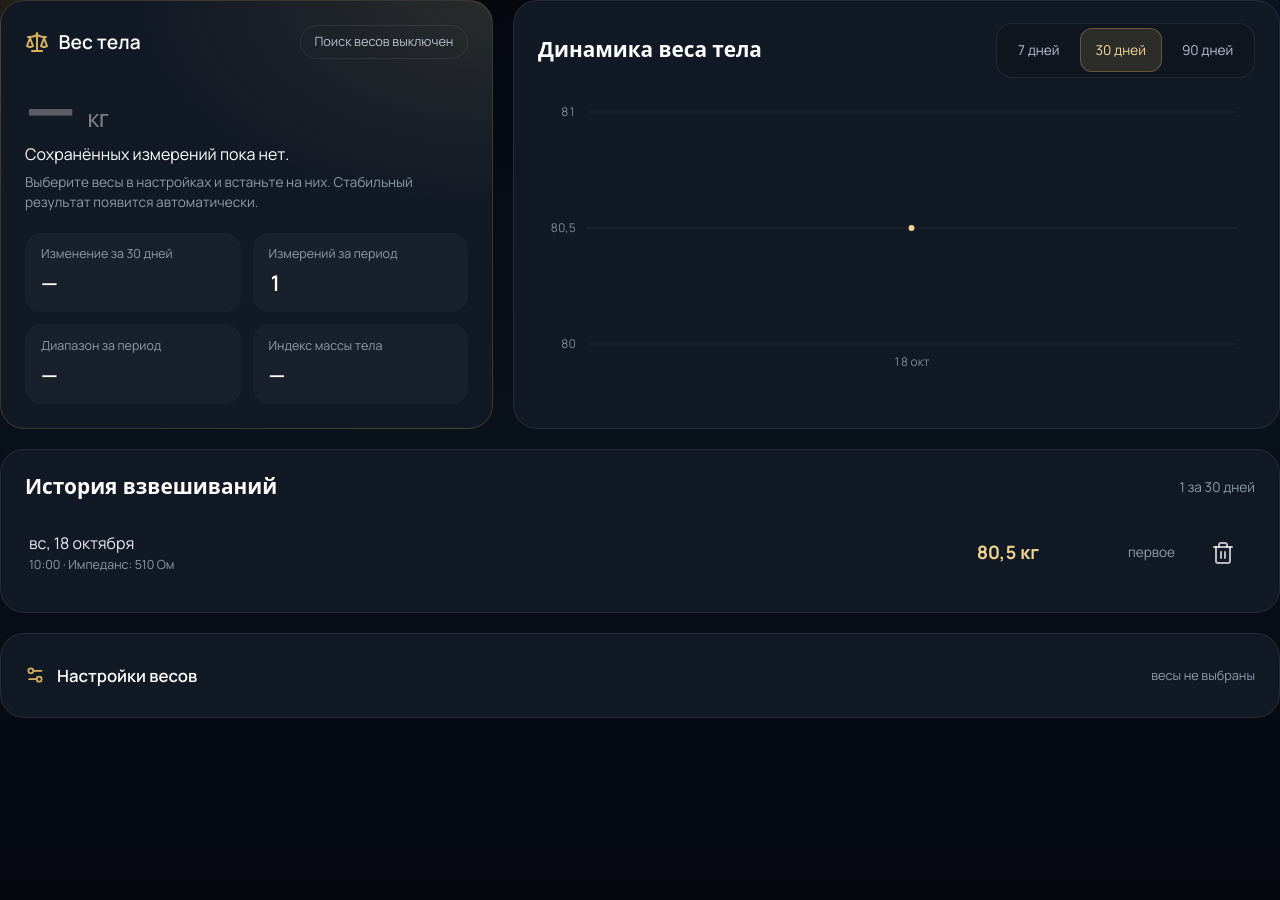
BodyWeightPanel shared scales › blocks duplicate deletion/close while pending and retains error/retry/cancel
The image size is (1280, 900).
Click the button named "Удалить 80,5 кг". click: [1223, 553]
box: left=1191, top=521, right=1255, bottom=585
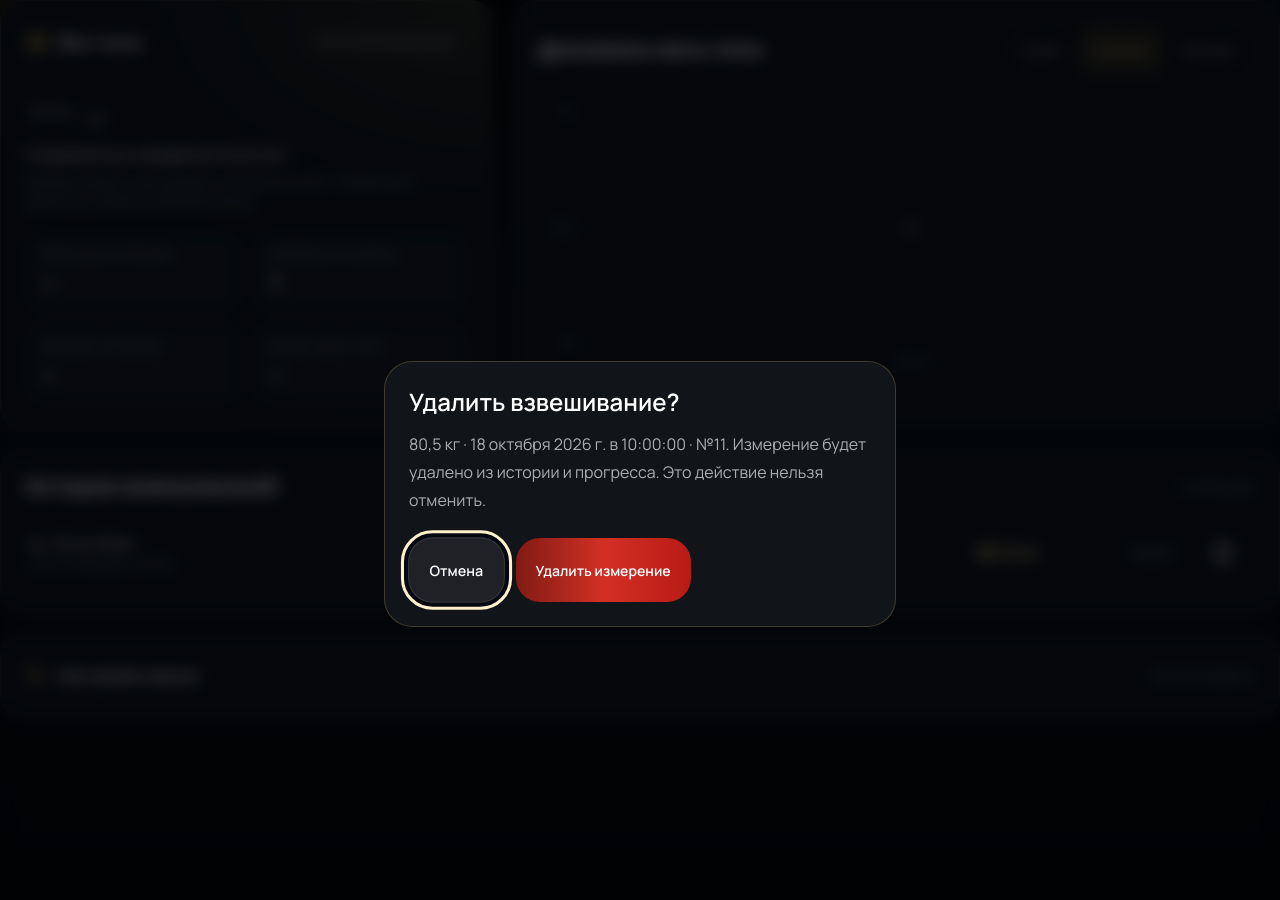
Click the button "Удалить измерение". click: [603, 570]
box: left=516, top=538, right=691, bottom=602
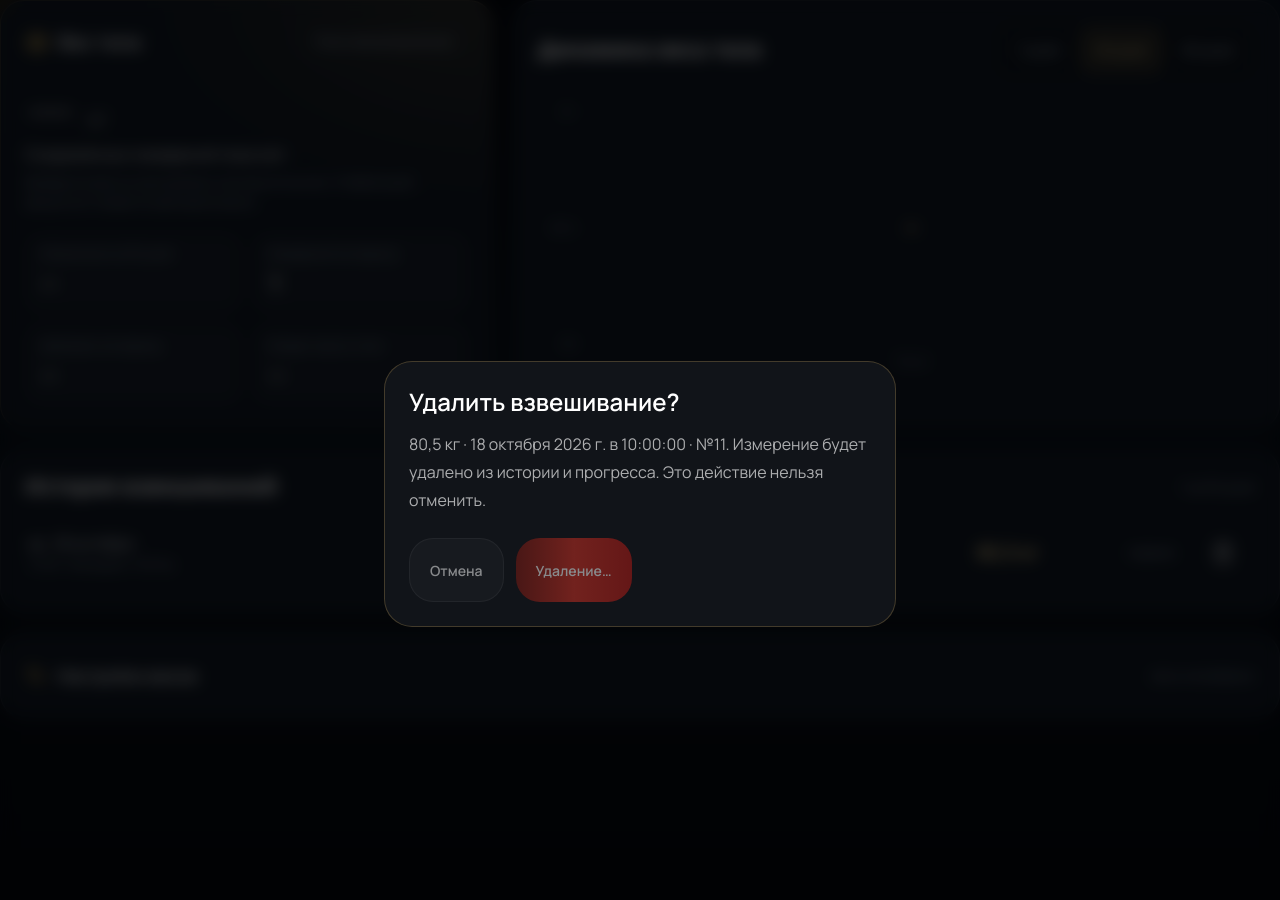
Expected: the button "Удаление…" is disabled, left=516, top=538, right=632, bottom=602
Expected: the button "Отмена" is disabled, left=409, top=538, right=504, bottom=602
Press Escape in the dialog, box left=384, top=361, right=896, bottom=627
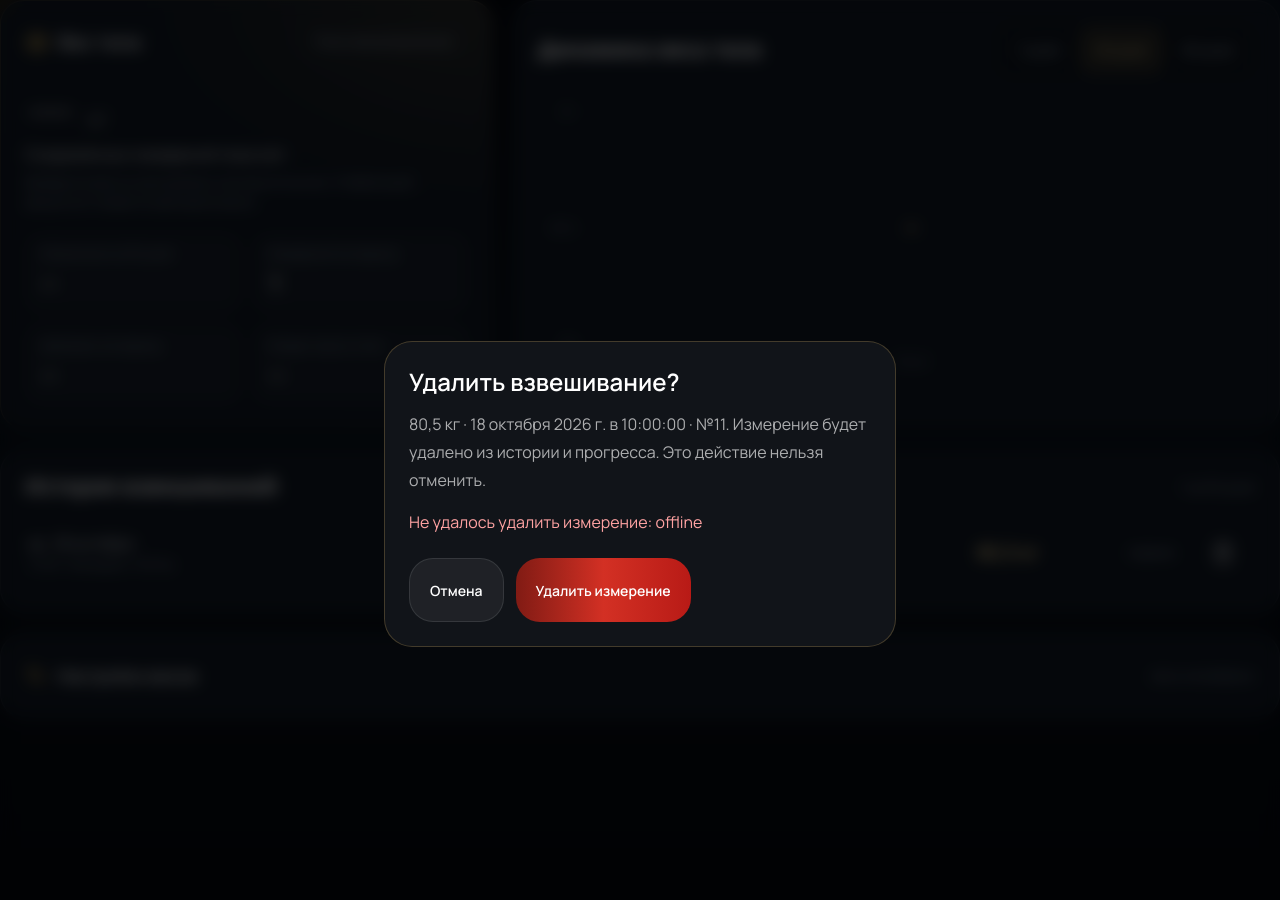
Expected: the dialog is shown, left=384, top=341, right=896, bottom=647
Expected: the text "Не удалось удалить измерение: offline" is shown, left=409, top=511, right=702, bottom=533
Expected: the button "Удалить измерение" is enabled, left=516, top=558, right=691, bottom=622
Click the button "Отмена". click: [456, 590]
box: left=409, top=558, right=504, bottom=622
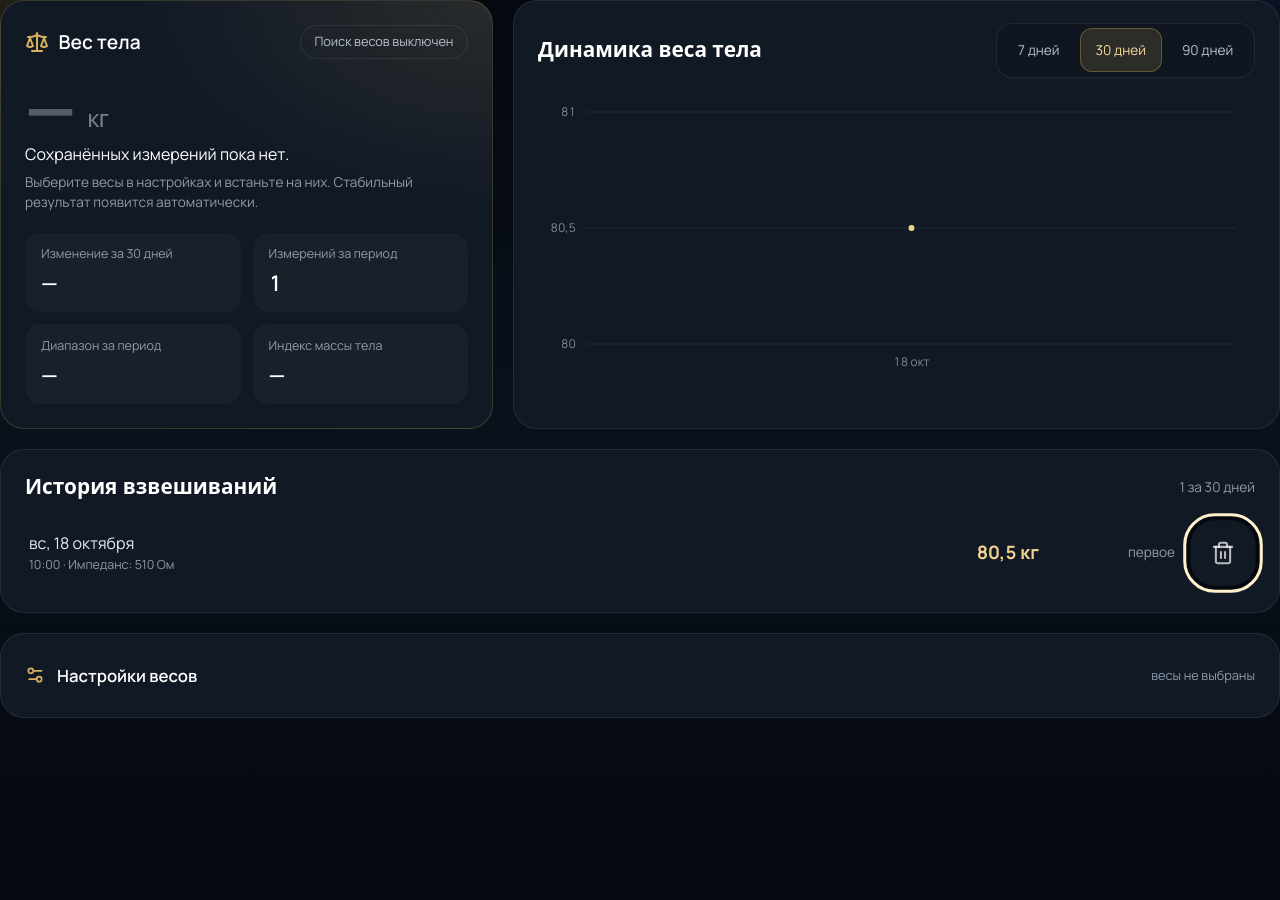
Expected: the text "80,5 кг" is shown, left=977, top=539, right=1039, bottom=566
Expected: the dialog is gone
